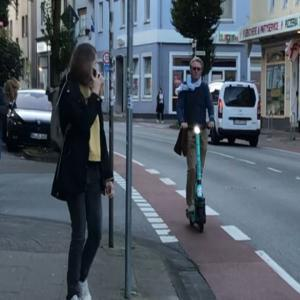with scooter: (173, 56, 214, 233)
without scooter: (50, 43, 116, 300), (156, 88, 165, 125)
